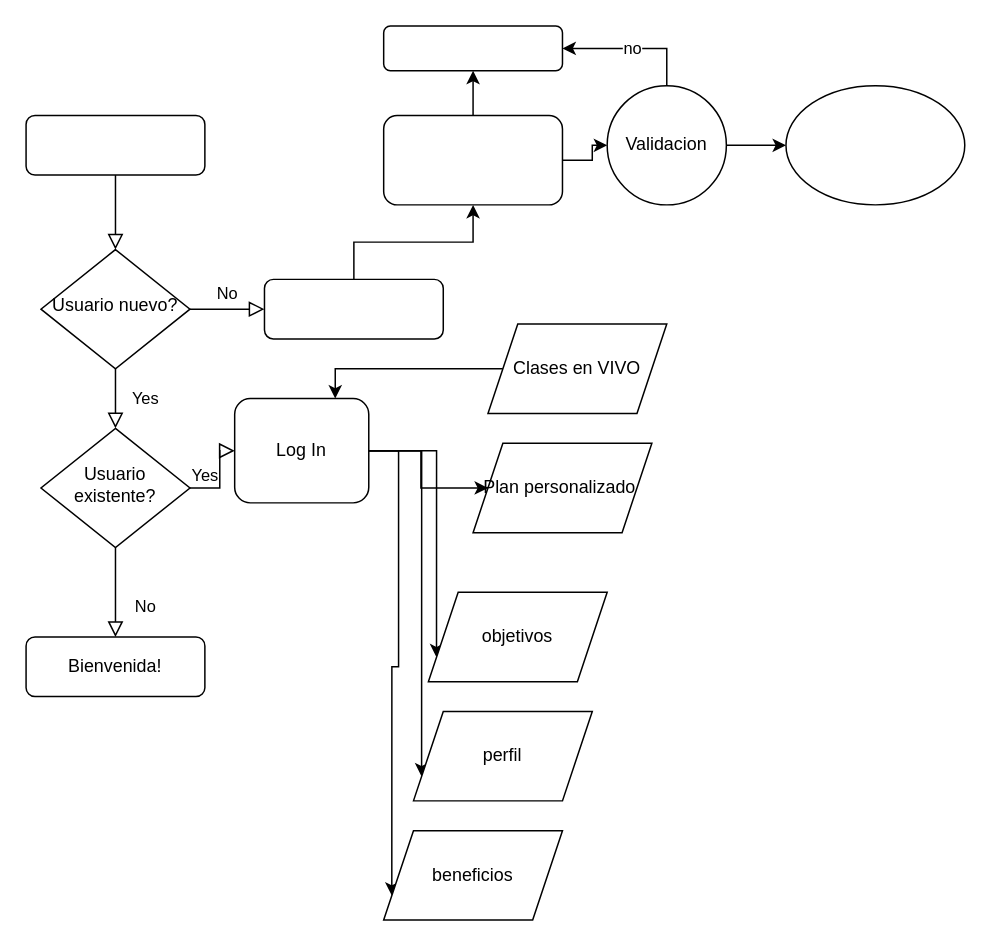
This 991x946 diagram has some shape labels left out. Each missing label, with the centre of its shape:
"Error de registro" belongs at point 472,48.
"Formulario de registro" belongs at point 472,159.
"login/registro" belongs at point 115,144.
"Registrate" belongs at point 353,308.
"ya sos miembro!!!" belongs at point 874,144.
